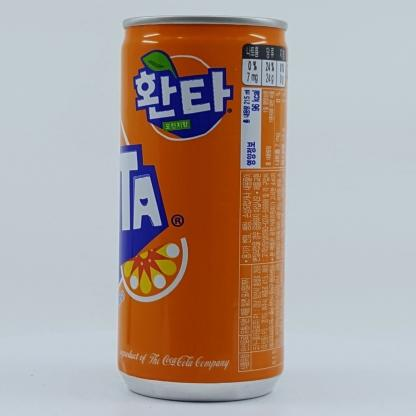-------215ML: (117, 15, 288, 402)
